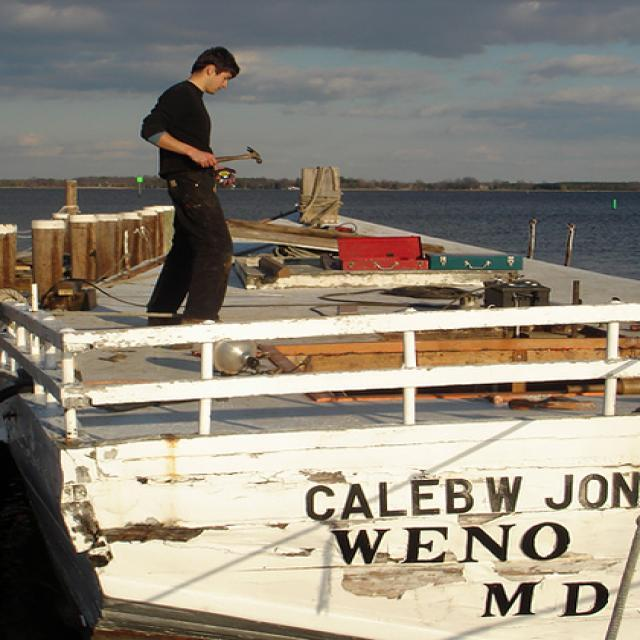hammer: (190, 142, 270, 176)
